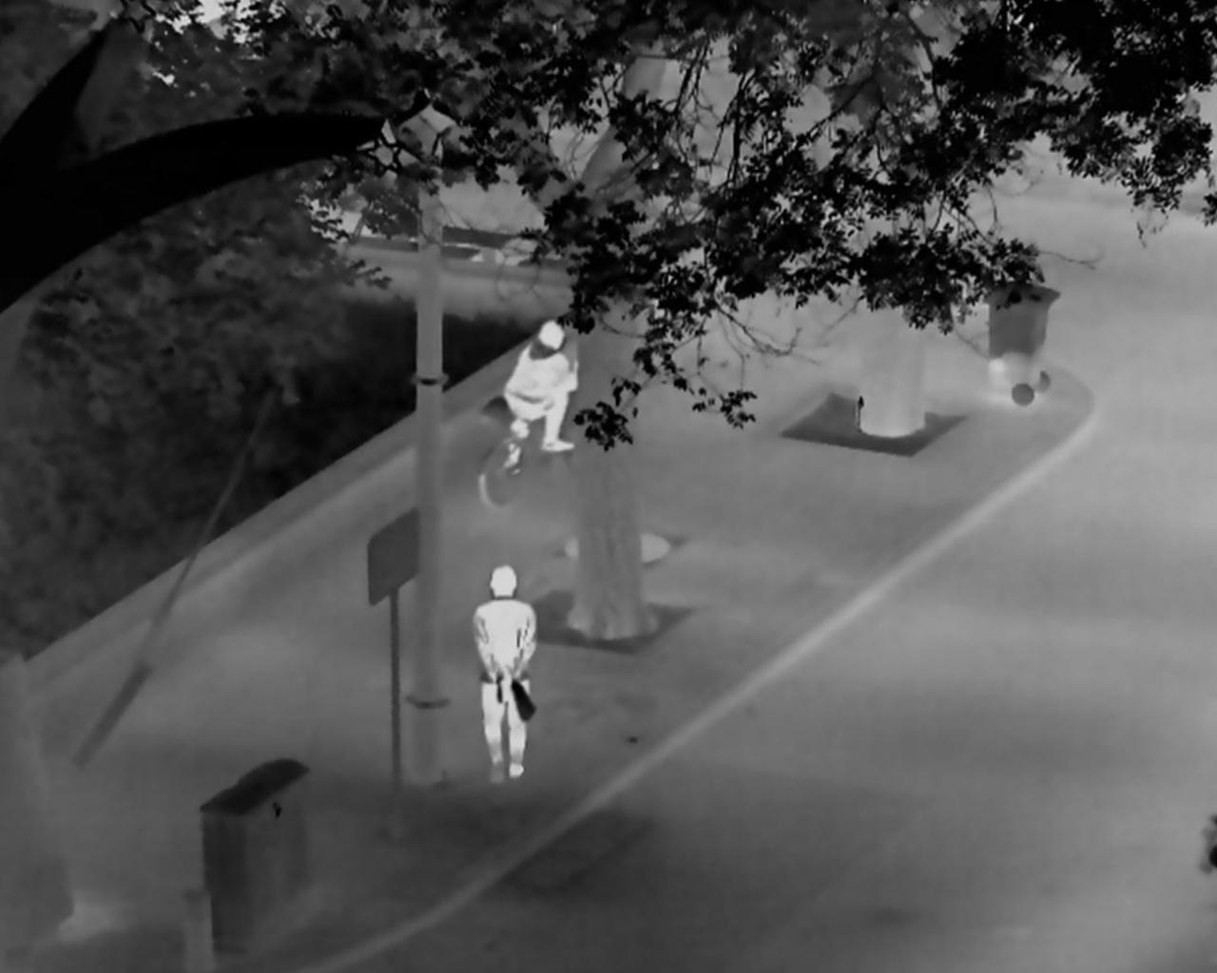person: (470, 563, 537, 784), (501, 320, 580, 473)
